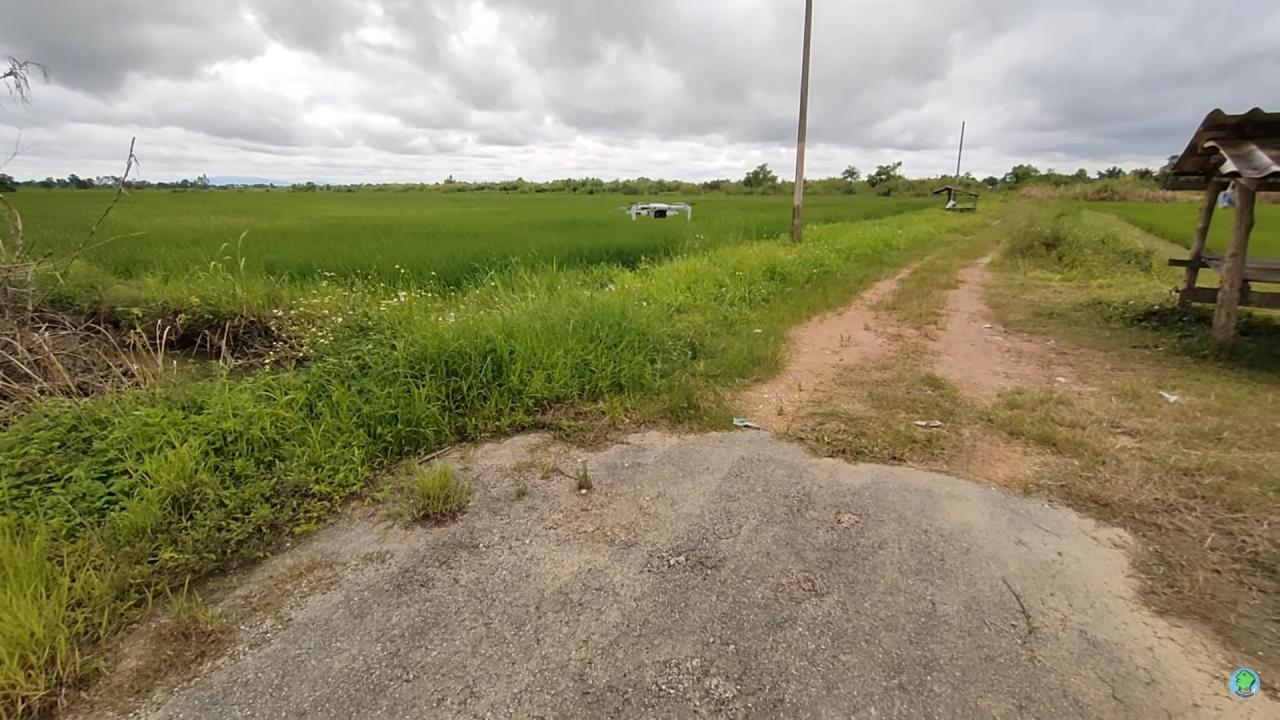Drone: (613, 188, 702, 230)
